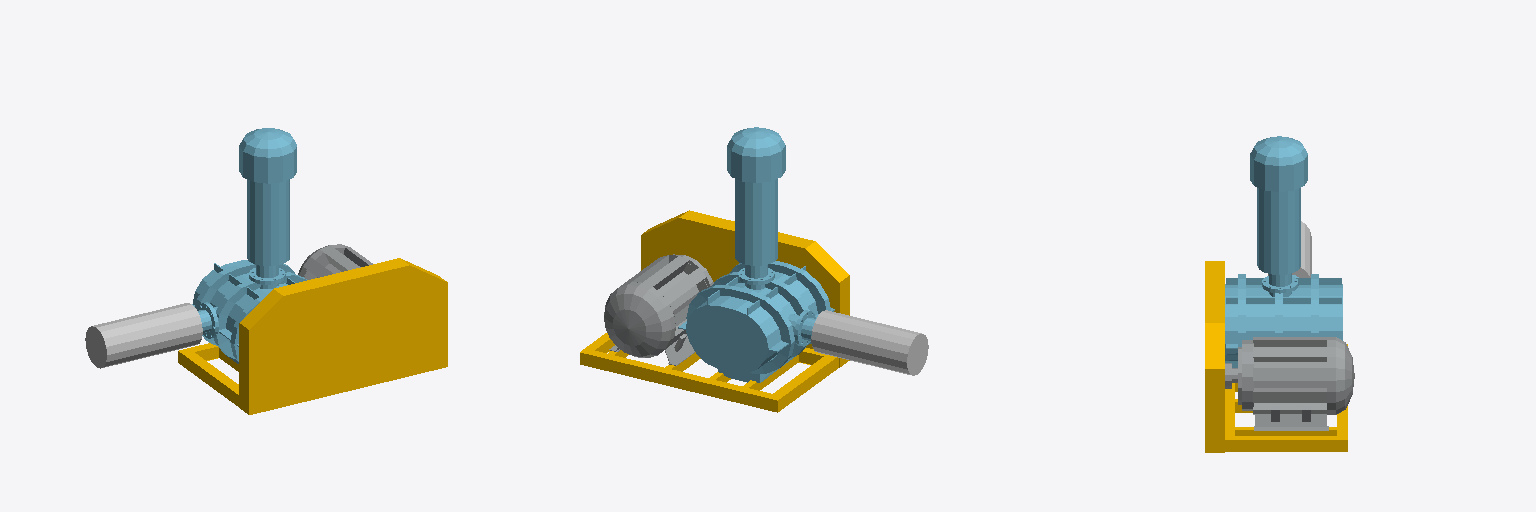
The model's file is blower.obj.
3 views of the same model, side by side, from view 1: azimuth 30°, elevation 25°; view 2: azimuth 150°, elevation 25°; view 3: azimuth 270°, elevation 25° (orthographic).
Visible parts, largest first — view 1: ___, __, __.4, __.1, ___.1, ___.3, ___.6, ___.5, __.2; view 2: __, ___, ___.3, __.4, ___.1, __.1, ___.5, ___.7, ___.6, __.2, __.5; view 3: __.4, ___.3, ___, __.1, ___.1, __, ___.5, __.5, ___.15, ___.4, ___.7.
Part boxes in pixels (x1,y1,x2,y2): ___: (239, 258, 447, 414); __: (85, 244, 351, 368); __.4: (247, 179, 372, 279); __.1: (200, 128, 296, 336); ___.1: (178, 343, 238, 406); ___.3: (193, 260, 287, 363); ___.6: (214, 272, 306, 358); ___.5: (195, 262, 294, 345); __.2: (197, 268, 285, 338); __: (604, 282, 928, 375); ___: (641, 210, 849, 367); ___.3: (685, 271, 817, 382); __.4: (624, 179, 777, 344); ___.1: (580, 333, 838, 412); __.1: (727, 127, 812, 343); ___.5: (608, 285, 794, 373); ___.7: (730, 261, 830, 344); ___.6: (711, 272, 809, 358); __.2: (738, 268, 815, 346); __.5: (669, 254, 815, 341); __.4: (1253, 188, 1326, 414); ___.3: (1225, 284, 1342, 391); ___: (1205, 261, 1224, 452); __.1: (1250, 136, 1307, 296); ___.1: (1225, 344, 1347, 451); __: (1232, 221, 1354, 414); ___.5: (1235, 274, 1336, 435); __.5: (1242, 275, 1298, 410); ___.15: (1255, 414, 1326, 426); ___.4: (1226, 297, 1341, 412); ___.7: (1238, 274, 1245, 346).
Size of the model in its own units: 477 by 357 by 200.